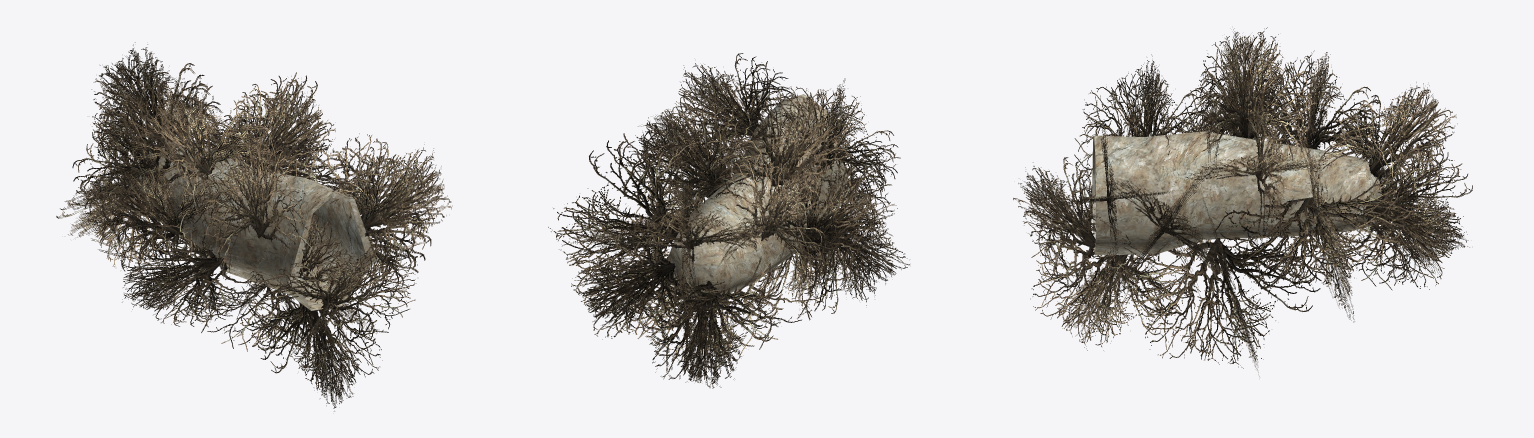
The model's file is poi_all_lair_bramble_light_large_l2.fbx.
The picture shows the model from 3 angles, left to right: view 1: azimuth 30°, elevation 25°; view 2: azimuth 150°, elevation 25°; view 3: azimuth 270°, elevation 25°; orthographic projection. The views are drawn at different scales.
Parts seen in each view (by area): view 1: mesh_node; view 2: mesh_node; view 3: mesh_node.
Boxes of the visible parts, x1,y1,x2,y2 form: mesh_node: (56,42,452,411); mesh_node: (548,53,909,388); mesh_node: (1013,27,1472,376).
Bounding box in the file's own units: 6.19 × 6.01 × 8.38.
